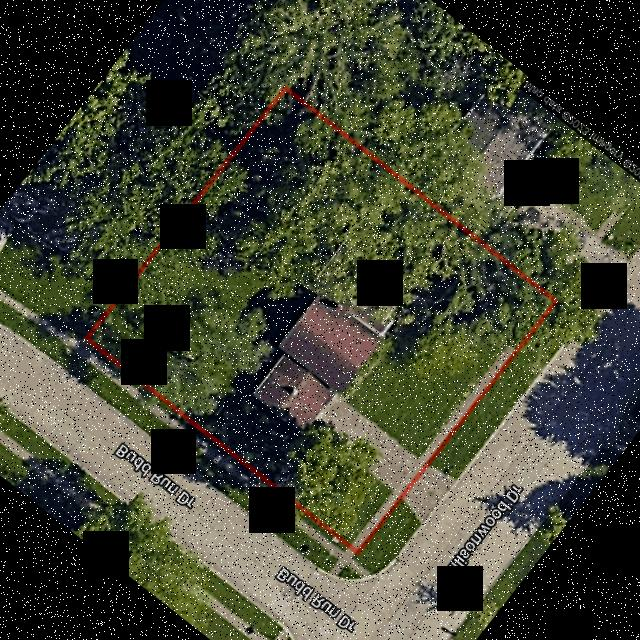Driveway: (308, 395, 417, 491)
Extra Driveway: (404, 467, 457, 525)
Extra Lawn: (62, 348, 335, 574), (432, 304, 584, 478), (354, 503, 420, 573), (297, 520, 344, 559), (338, 566, 360, 580)
Extra Sidewalk: (74, 339, 376, 583), (329, 561, 345, 576)
House: (253, 241, 416, 427)
